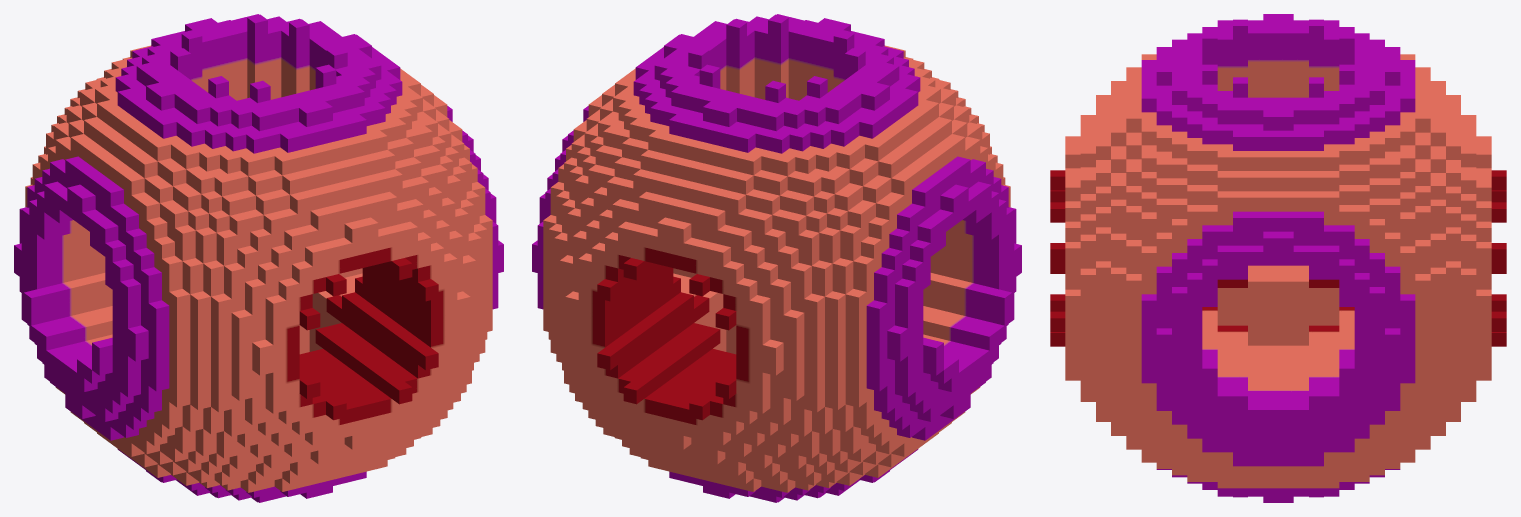
Rendered from Character_7.fbx.
The picture shows the model from 3 angles, left to right: view 1: azimuth 30°, elevation 25°; view 2: azimuth 150°, elevation 25°; view 3: azimuth 270°, elevation 25°; orthographic projection.
Visible parts, largest first — view 1: Character_7; view 2: Character_7; view 3: Character_7.
Boxes of the visible parts, bbox=[...] form: Character_7: bbox=[14, 14, 503, 502]; Character_7: bbox=[532, 14, 1021, 502]; Character_7: bbox=[1050, 14, 1506, 502].
Bounding box in the file's own units: 30 × 30 × 30.
Materials: 1 (1 with a texture image).
